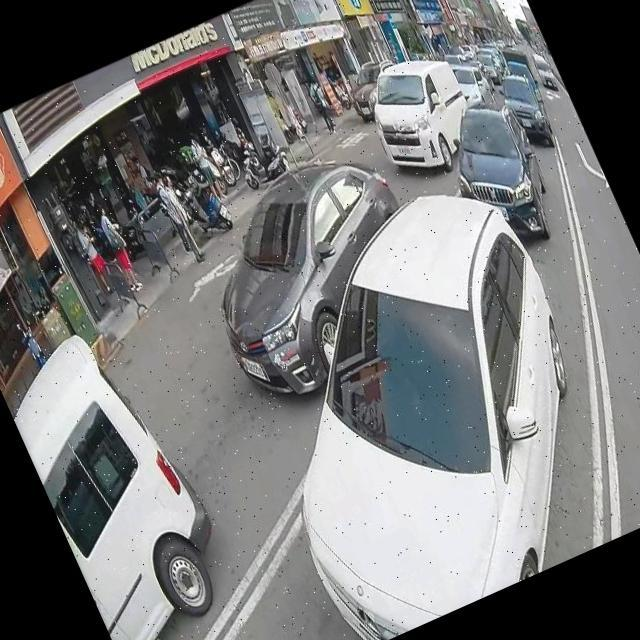person: (85, 196, 149, 298), (149, 172, 206, 266), (65, 210, 122, 300), (184, 133, 227, 204), (302, 76, 338, 137), (125, 147, 162, 201)
